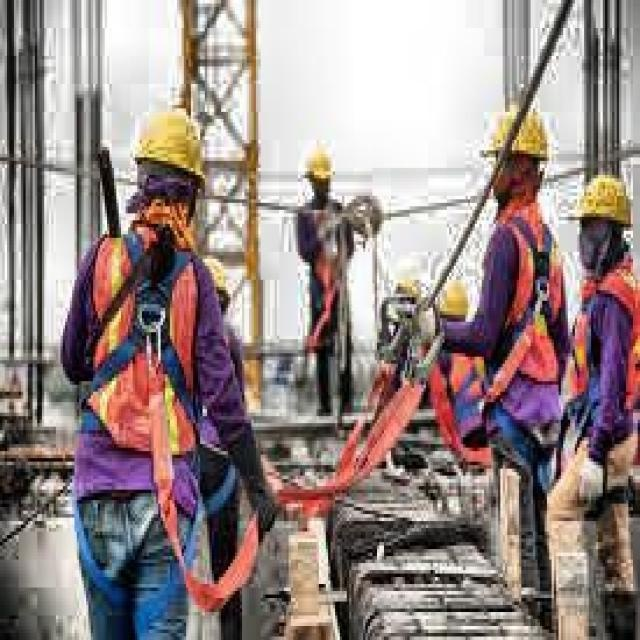Arnes_seguridad: (84, 219, 197, 424), (503, 201, 566, 387)
